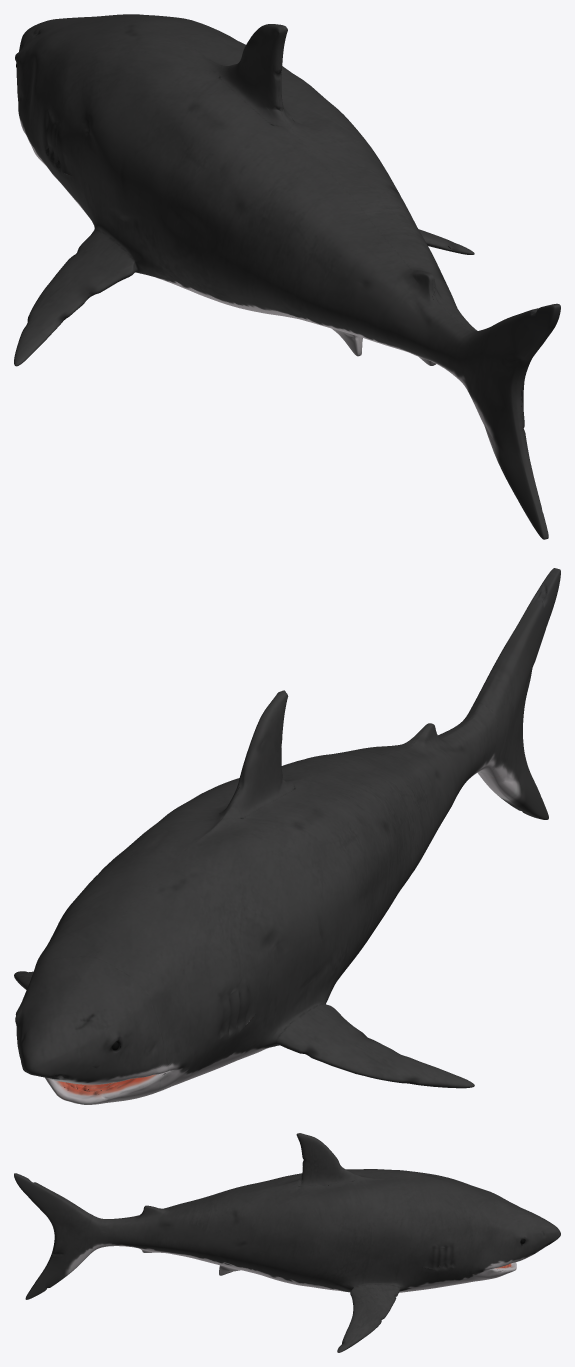
Rendered from megalodon.glb.
3 views of the same model, one above another, from view 1: azimuth 30°, elevation 25°; view 2: azimuth 150°, elevation 25°; view 3: azimuth 270°, elevation 25° (orthographic). The views are drawn at different scales.
Parts seen in each view (by area): view 1: megalodon; view 2: megalodon; view 3: megalodon.
Part boxes in pixels (left/top/right/bottom): megalodon: left=14, top=14, right=560, bottom=539; megalodon: left=14, top=568, right=560, bottom=1104; megalodon: left=14, top=1133, right=560, bottom=1352.
Size of the model in its own units: 8.05 by 5.36 by 16.
Materials: 1 (1 with a texture image).
